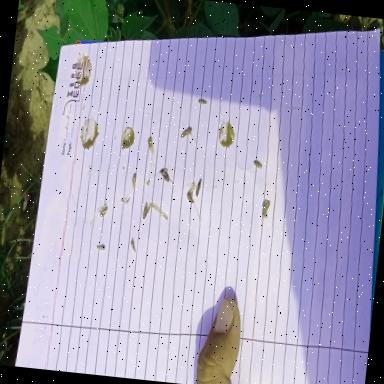pbw: (179, 125, 193, 140), (142, 200, 152, 220), (262, 199, 270, 217), (100, 202, 108, 218), (131, 172, 137, 188), (254, 160, 264, 169), (198, 97, 208, 105), (96, 243, 106, 250), (130, 240, 136, 251)
